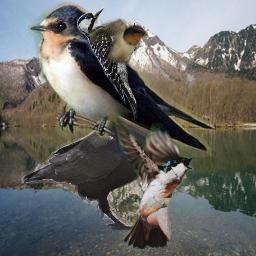Crow: (21, 88, 175, 230)
Swallow: (28, 1, 215, 158), (109, 107, 194, 249), (88, 18, 148, 66)
Woodpecker: (76, 7, 141, 122)
